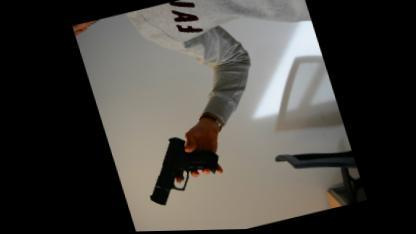pistol: (128, 128, 226, 209)
